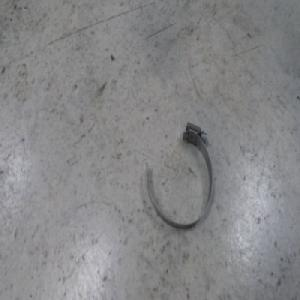AdjustableClamp: (144, 122, 213, 227)
